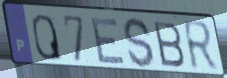7: (61, 13, 87, 65)
B: (152, 20, 187, 70)
E: (90, 17, 128, 66)
Q: (31, 13, 64, 62)
R: (181, 19, 221, 74)
S: (122, 16, 156, 70)
